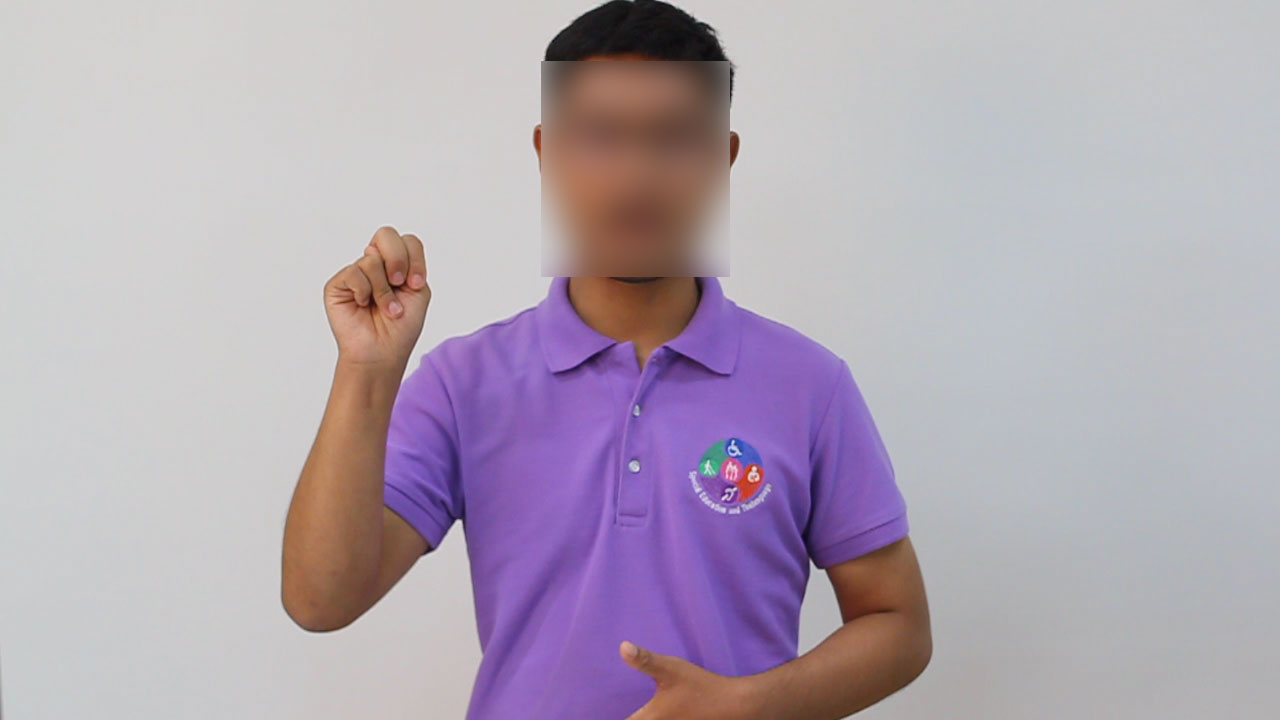nor: (315, 217, 444, 369)
